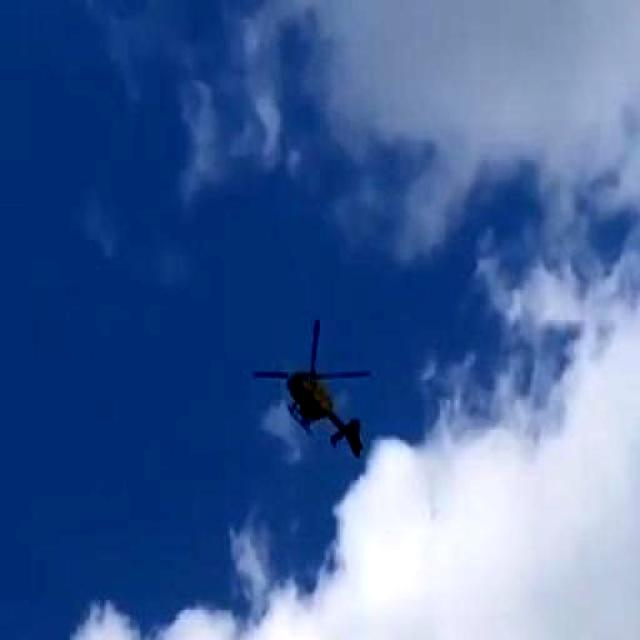drone: (228, 295, 391, 499)
